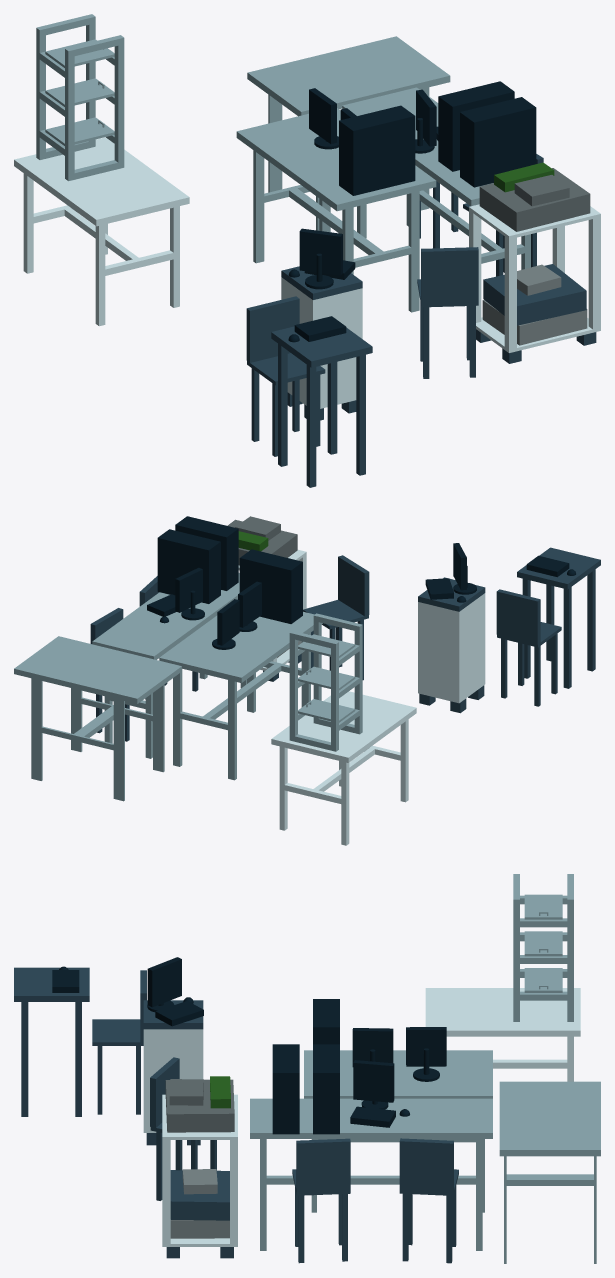
Rendered from clutter 1.glb.
3 views of the same model, one above another, from view 1: azimuth 30°, elevation 25°; view 2: azimuth 150°, elevation 25°; view 3: azimuth 270°, elevation 25° (orthographic). The views are drawn at different scales.
Parts seen in each view (by area): view 1: clutter 1; view 2: clutter 1; view 3: clutter 1.
Part boxes in pixels (x1,y1,x2,y2): clutter 1: (14, 14, 600, 487); clutter 1: (14, 516, 600, 845); clutter 1: (14, 874, 600, 1263).
Size of the model in its own units: 3.2 by 1.85 by 4.35.
